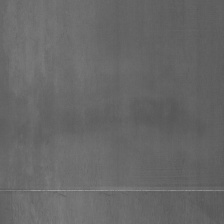welding_line: (0, 181, 224, 198)
